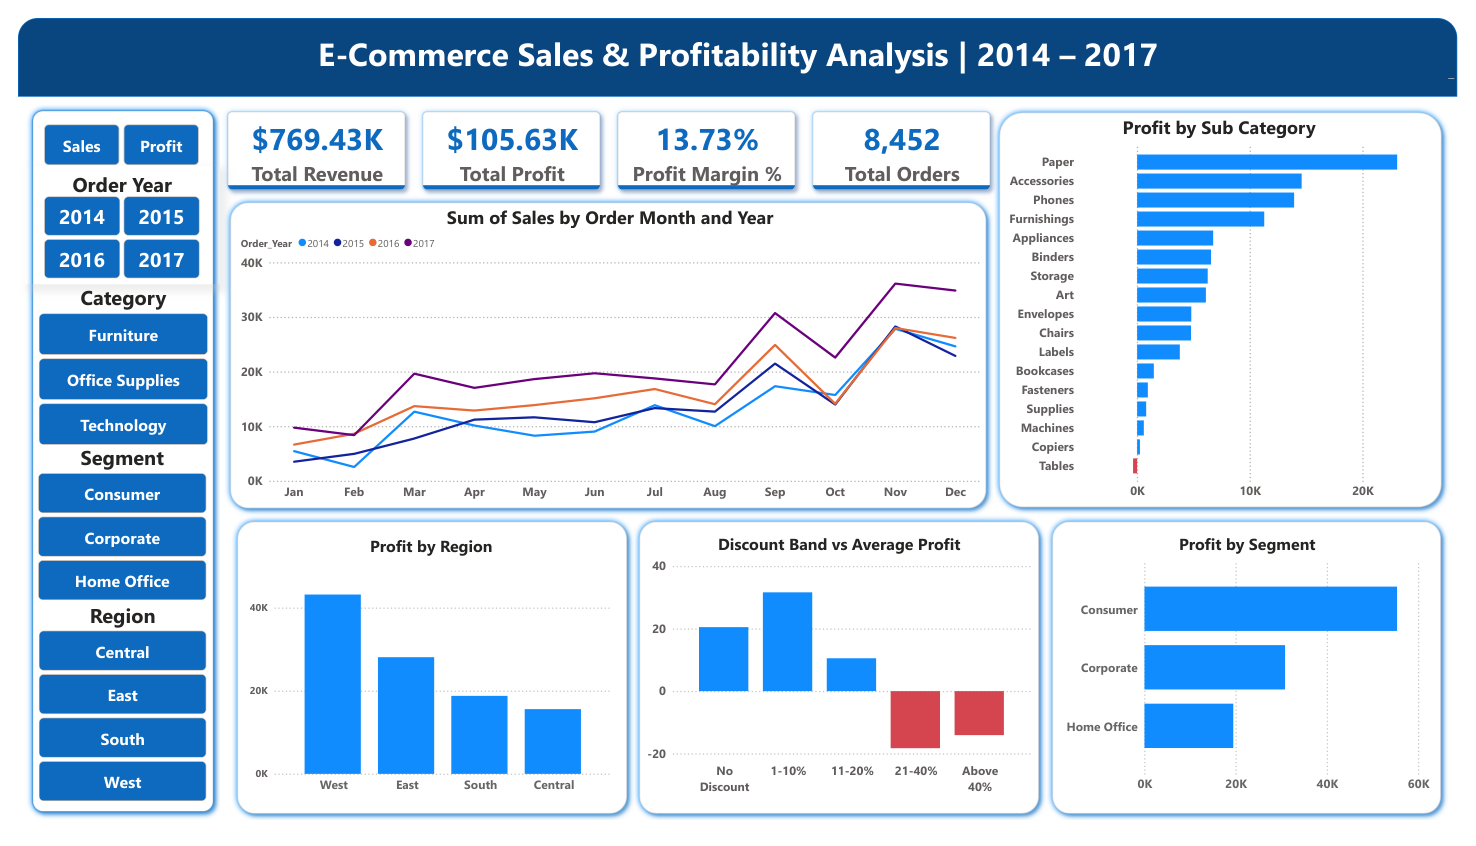

Layout of this report page (visuals, bound fields, positions):
{"tool":"powerbi","page":{"name":"Overview","canvas":[1920,1080],"ordinal":0},"visuals":[{"type":"cardVisual","fields":{"Data":["Sum(orders.Sales)","Sum(orders.Profit)","orders.Profit Margin %","CountNonNull(orders.Order_ID)"]},"box":[250.8,96.3,1074.3,162.2],"z":0},{"type":"shape","box":[0,0,1919.1,105],"z":1000},{"type":"textbox","title":"E-Commerce Sales & Profitability Analysis | 2014 – 2017","box":[0,18,1920,68],"z":2000},{"type":"shape","box":[10,115,259,953],"z":3000},{"type":"advancedSlicerVisual","title":"Order Year","fields":{"Values":["orders.Order_Year"]},"box":[9,197,260,158],"z":4000},{"type":"advancedSlicerVisual","fields":{"Values":["orders.Category"]},"box":[23,354,235,223],"z":5000},{"type":"advancedSlicerVisual","fields":{"Values":["orders.Segment"]},"box":[22,567,234,216],"z":6000},{"type":"advancedSlicerVisual","fields":{"Values":["orders.Region"]},"box":[22.5,776.7,233.3,273.3],"z":7000},{"type":"shape","box":[1370,662.9,537.1,405.7],"z":8000},{"type":"shape","box":[820,662.9,551.4,405.7],"z":9000},{"type":"shape","box":[284.3,662.9,537.1,405.7],"z":10000},{"type":"clusteredColumnChart","title":"Profit by Region","fields":{"Y":["Sum(orders.Profit)"],"Category":["orders.Region"]},"box":[304.1,689.2,494.1,354.7],"z":11000},{"type":"columnChart","title":"Discount Band vs Average Profit","fields":{"Y":["Avg(orders.Profit)"],"Category":["orders.Discount_Band"]},"box":[834.3,685.7,521.4,357.1],"z":12000},{"type":"shape","box":[275,236.7,1025,426.7],"z":13000},{"type":"lineChart","title":"Sum of Sales by Order Month and Year","fields":{"Y":["Sum(orders.Sales)"],"Series":["orders.Order_Year"],"Category":["orders.Month_Name"]},"box":[291.7,248.3,995,405],"z":14000},{"type":"shape","box":[1300,116.7,606.7,545],"z":15000},{"type":"barChart","title":"Profit by Sub Category","fields":{"Y":["Sum(orders.Profit)"],"Category":["orders.Sub_Category"]},"box":[1315,128.3,573.3,525],"z":16000},{"type":"clusteredBarChart","title":"Profit by Segment","fields":{"Y":["Sum(orders.Profit)"],"Category":["orders.Segment"]},"box":[1391.4,685.7,495.7,357.1],"z":17000},{"type":"actionButton","title":"hello","box":[35,142,100,54.1],"z":19000},{"type":"actionButton","title":"hello","box":[141,142,100,54],"z":20000}]}

Visuals, with their boxes in screenshot pixels (x1, y1, x2, y2), scaled from the page's 1920x1080 canvas onto the 1476x846 screenshot:
cardVisual - Sum(orders.Sales) x Sum(orders.Profit): detection(193, 75, 1019, 202)
shape: detection(0, 0, 1475, 82)
"E-Commerce Sales & Profitability Analysis | 2014 – 2017" textbox: detection(0, 14, 1475, 67)
shape: detection(8, 90, 207, 837)
"Order Year" advancedSlicerVisual: detection(7, 154, 207, 278)
advancedSlicerVisual - orders.Category: detection(18, 277, 198, 452)
advancedSlicerVisual - orders.Segment: detection(17, 444, 197, 613)
advancedSlicerVisual - orders.Region: detection(17, 608, 197, 822)
shape: detection(1053, 519, 1466, 837)
shape: detection(630, 519, 1054, 837)
shape: detection(219, 519, 631, 837)
"Profit by Region" clusteredColumnChart: detection(234, 540, 614, 818)
"Discount Band vs Average Profit" columnChart: detection(641, 537, 1042, 817)
shape: detection(211, 185, 999, 520)
"Sum of Sales by Order Month and Year" lineChart: detection(224, 195, 989, 512)
shape: detection(999, 91, 1466, 518)
"Profit by Sub Category" barChart: detection(1011, 101, 1452, 512)
"Profit by Segment" clusteredBarChart: detection(1070, 537, 1451, 817)
"hello" actionButton: detection(27, 111, 104, 154)
"hello" actionButton: detection(108, 111, 185, 154)
